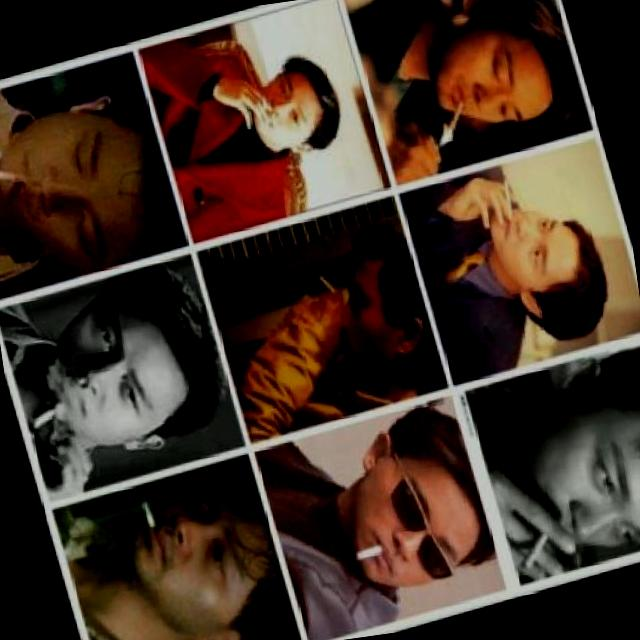cigarette: (508, 522, 557, 576), (428, 94, 474, 146), (23, 396, 65, 439), (0, 152, 30, 202), (494, 174, 518, 221), (132, 494, 156, 536), (349, 540, 386, 565), (314, 270, 338, 302), (253, 88, 270, 116)
